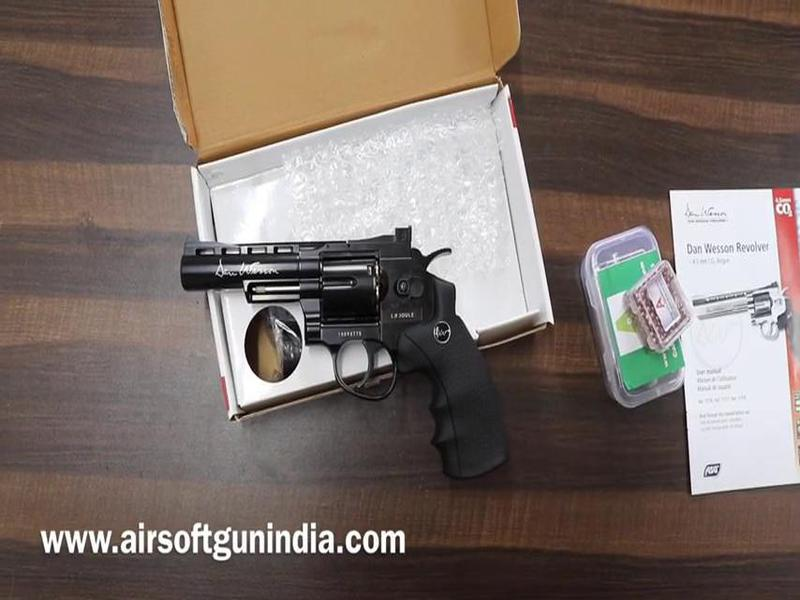Revolver: (174, 215, 524, 496)
